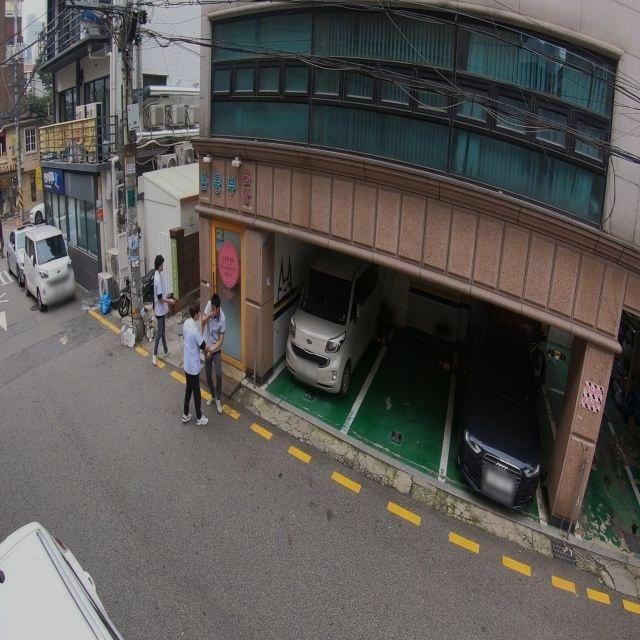fight: (179, 290, 224, 427)
non-fight: (151, 257, 173, 363)
